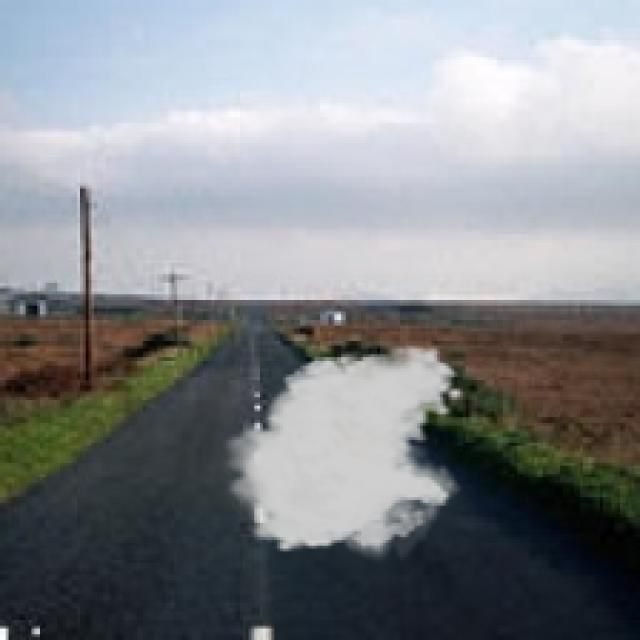smoke: (217, 343, 466, 566)
